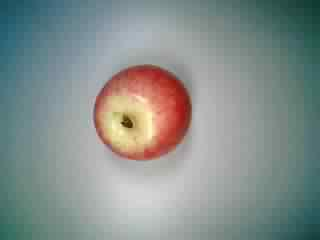apple: (89, 63, 193, 167)
